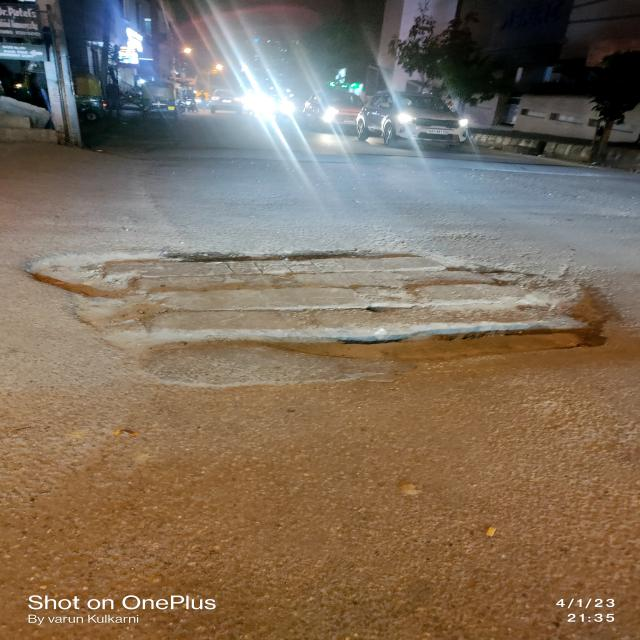potholes: (18, 242, 640, 393)
